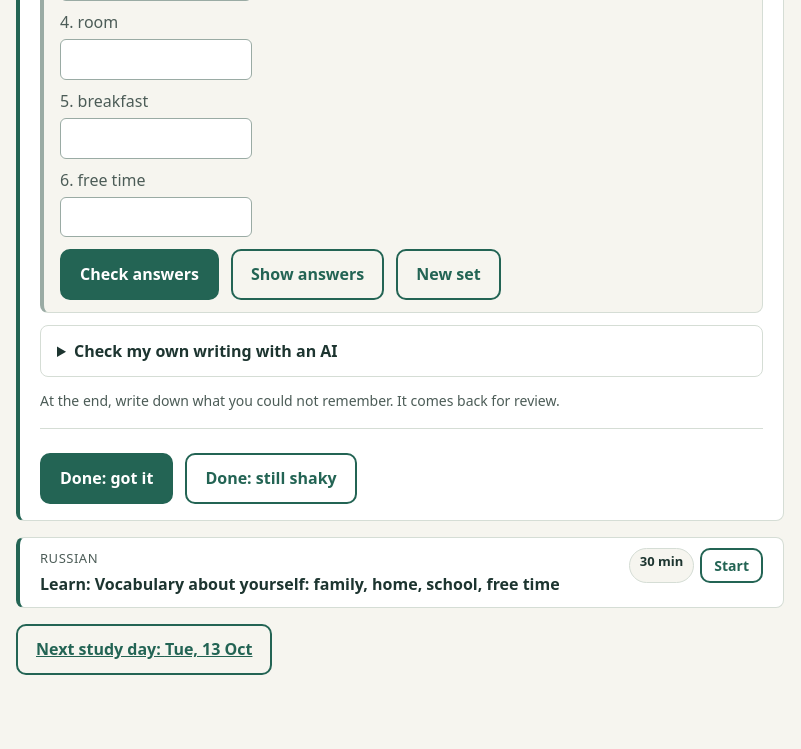
Revision page: Russian › creates a plan for Russian only, with language steps and a writing check
(page scrolled)
Step 1. Click the heading "Check my own writing with an AI" → (206, 351), box [74, 340, 338, 362]
(page scrolled)
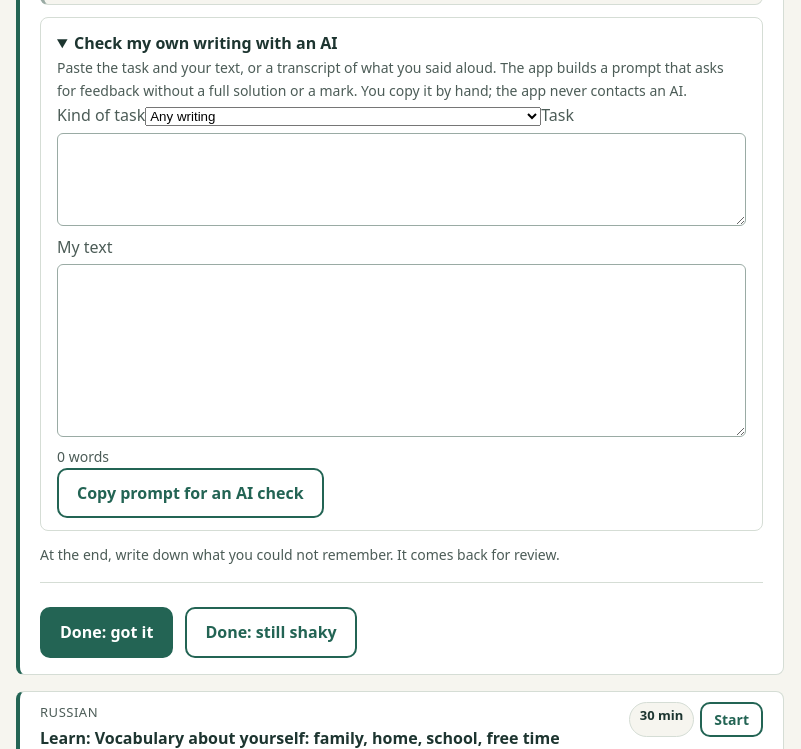
Check: the text box labelled "My text" is shown, box [57, 264, 746, 436]
